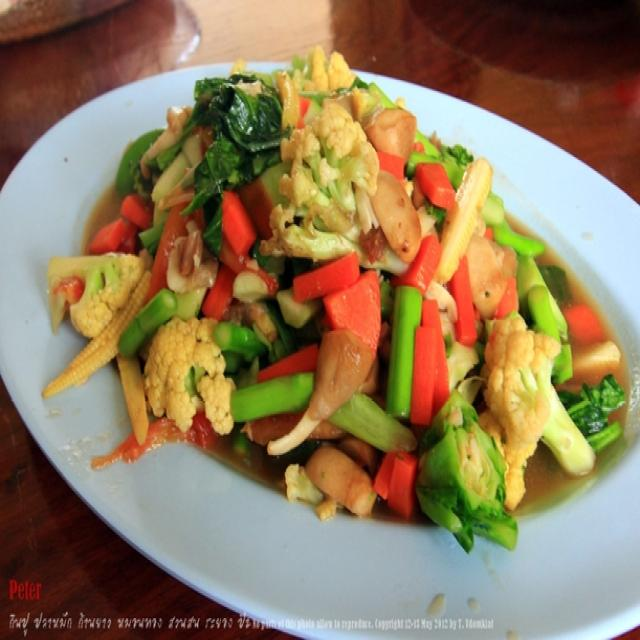蔬菜料理: (18, 36, 619, 599)
